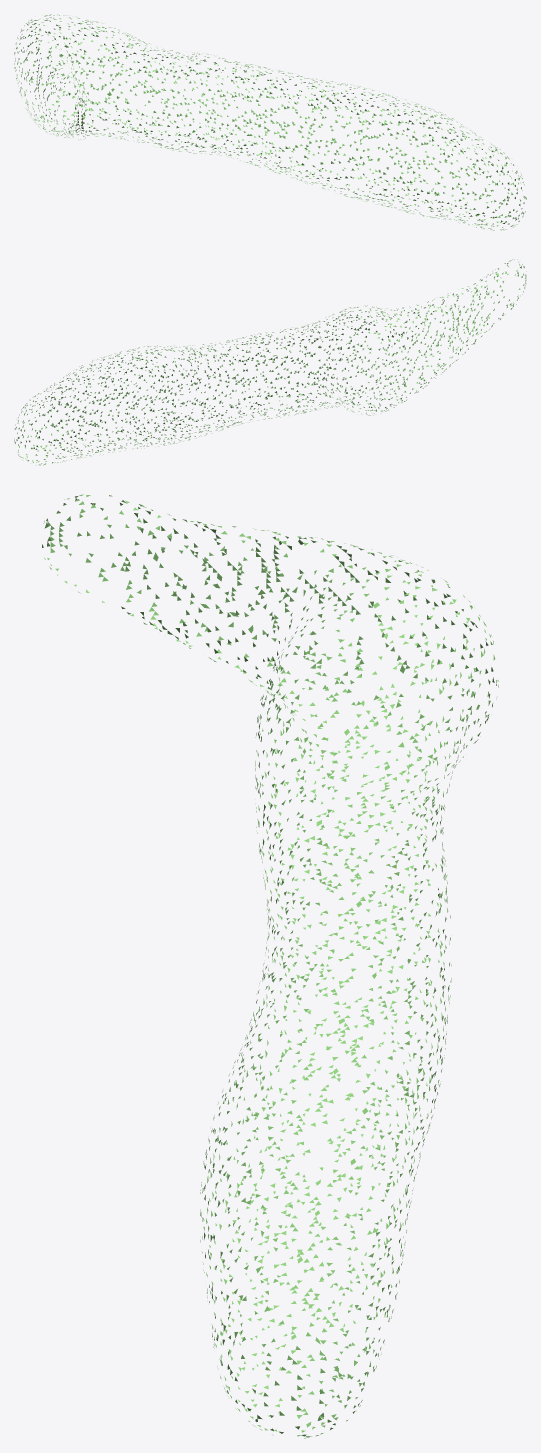
File: morph_015.glb
The picture shows the model from 3 angles, top to bottom: view 1: azimuth 30°, elevation 25°; view 2: azimuth 150°, elevation 25°; view 3: azimuth 270°, elevation 25°; orthographic projection. The views are drawn at different scales.
Size of the model in its own units: 130 by 74.35 by 58.09.
